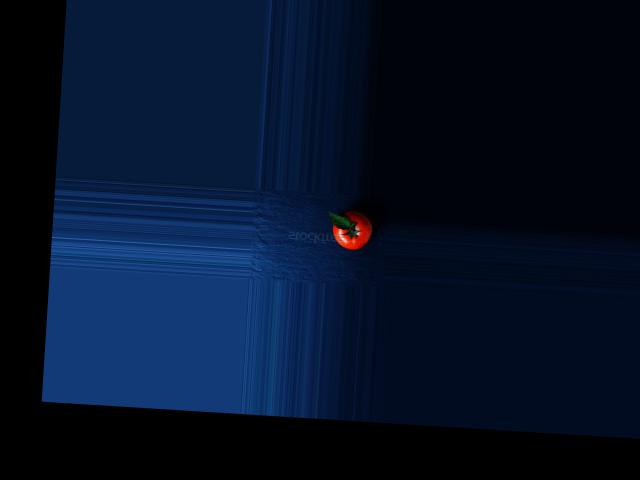tomato: (331, 209, 373, 250)
